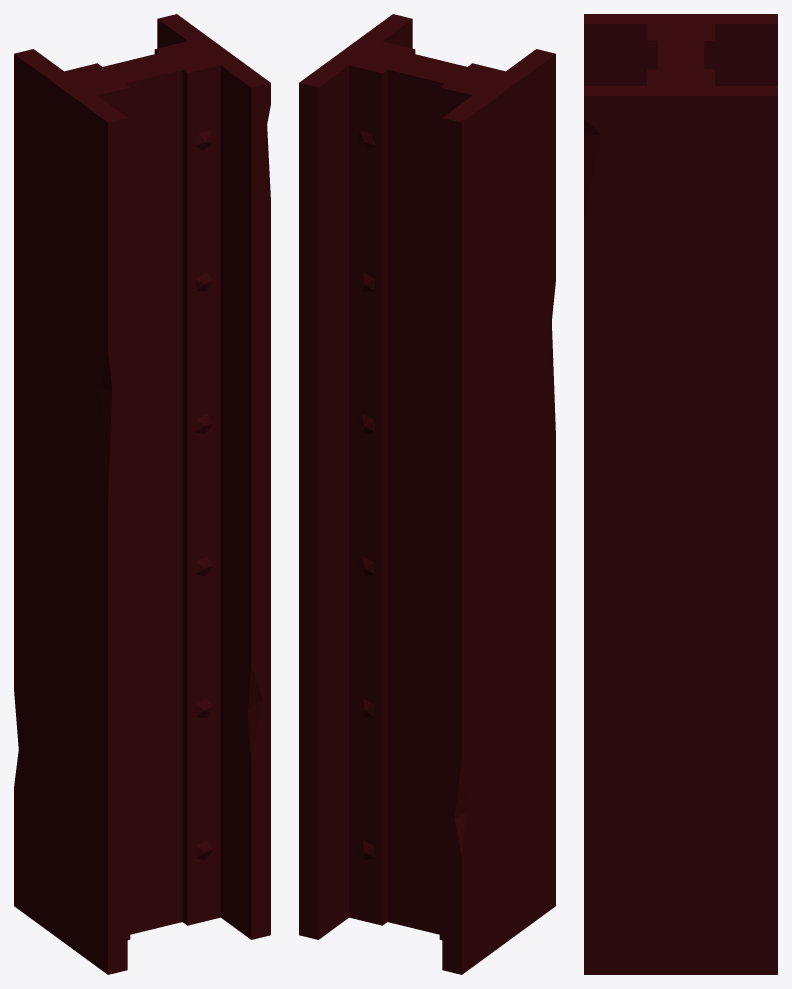
The model's file is SW_ENV_PillarGirderMid_2m_Drk.fbx.
3 renders of one model, left to right at view 1: azimuth 30°, elevation 25°; view 2: azimuth 150°, elevation 25°; view 3: azimuth 270°, elevation 25°, orthographic. The views are drawn at different scales.
Parts seen in each view (by area): view 1: SW_ENV_PillarGirderMid_2m_Drk; view 2: SW_ENV_PillarGirderMid_2m_Drk; view 3: SW_ENV_PillarGirderMid_2m_Drk.
Part boxes in pixels (left/top/right/bottom): SW_ENV_PillarGirderMid_2m_Drk: left=14, top=14, right=270, bottom=974; SW_ENV_PillarGirderMid_2m_Drk: left=299, top=14, right=555, bottom=974; SW_ENV_PillarGirderMid_2m_Drk: left=584, top=14, right=777, bottom=974.
Bounding box in the file's own units: 40 × 200 × 40.
